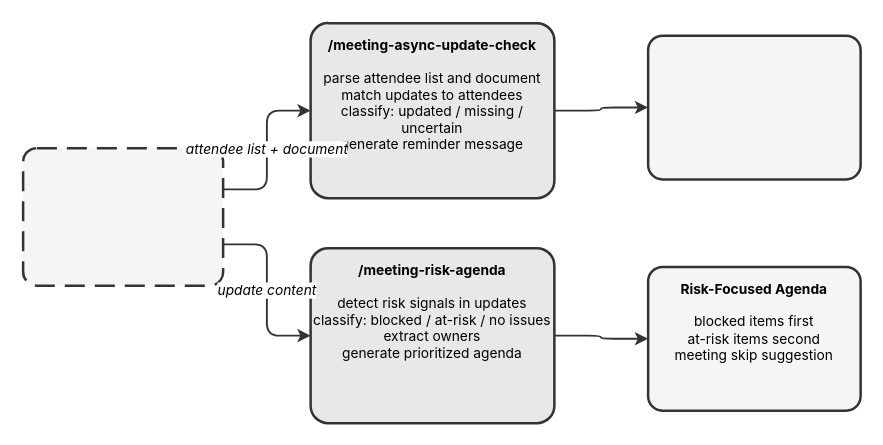
Some shapes in this 883 by 445 pixel diagram are drawn without their labels. The shapes that lost their labels are listed below. From the top down, each one's centre as x and y in pixels, then its label:
(x=753, y=107): Attendance Report who updated / who didn't organizer summary reminder to send
(x=122, y=216): Meeting Document shared Google Doc or text attendee list pre-meeting updates
